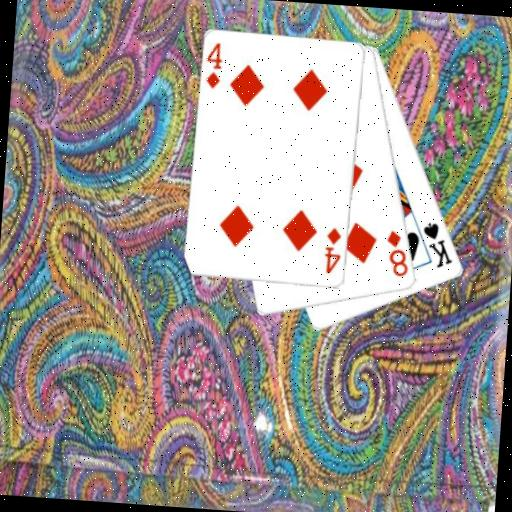4D: (321, 225, 344, 277), (202, 39, 225, 91)
8D: (382, 227, 413, 279)
KS: (418, 219, 458, 271)
